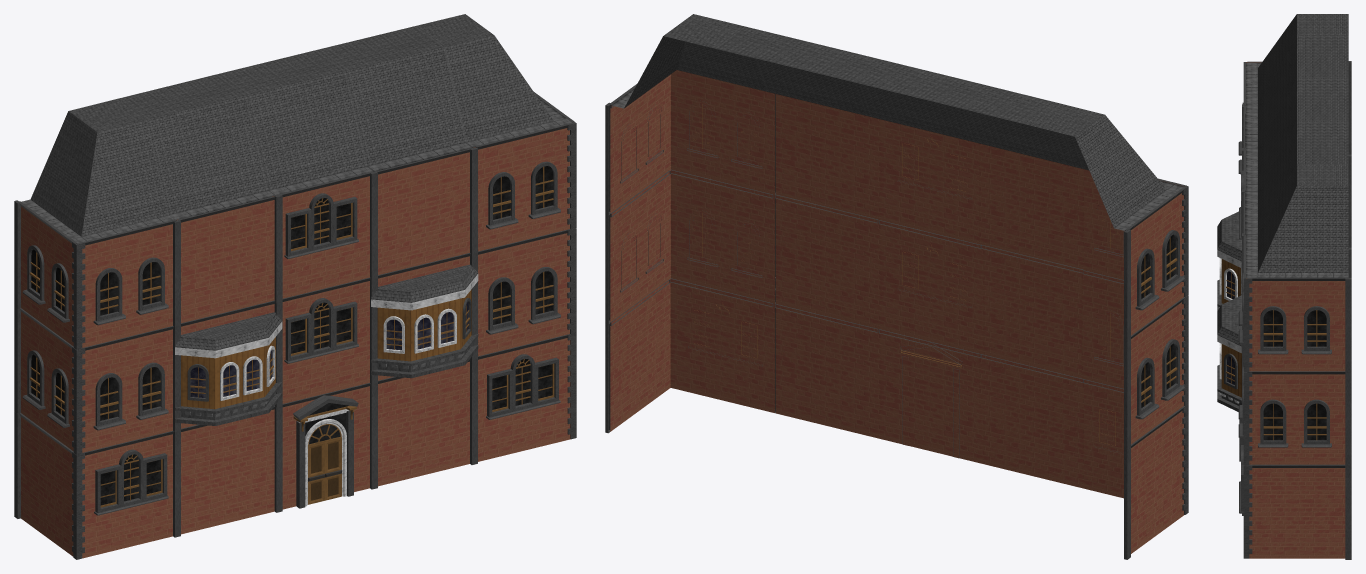
The model's file is Mansion.001_House.002b.fbx.
The picture shows the model from 3 angles, left to right: view 1: azimuth 30°, elevation 25°; view 2: azimuth 150°, elevation 25°; view 3: azimuth 270°, elevation 25°; orthographic projection. The views are drawn at different scales.
Visible parts, largest first — view 1: Mansion001_House_002; view 2: Mansion001_House_002; view 3: Mansion001_House_002.
Part boxes in pixels (x1=…): Mansion001_House_002: x1=14, y1=14, x2=576, y2=559; Mansion001_House_002: x1=605, y1=14, x2=1188, y2=559; Mansion001_House_002: x1=1217, y1=14, x2=1351, y2=559.
Size of the model in its own units: 2022 by 1495 by 520.
